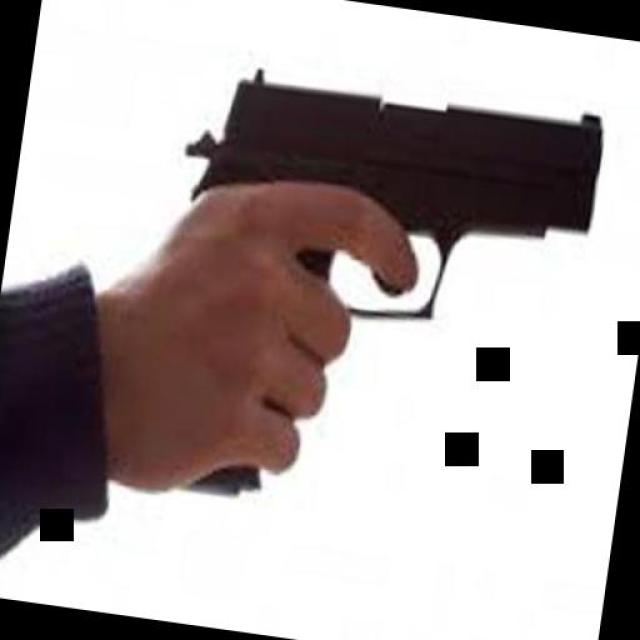gun: (138, 51, 612, 545)
